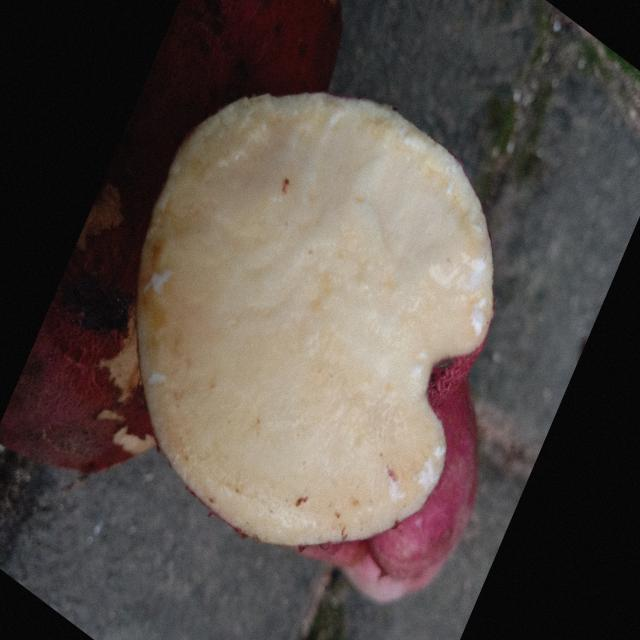Healthy Sweet Potato: (138, 93, 492, 545)
